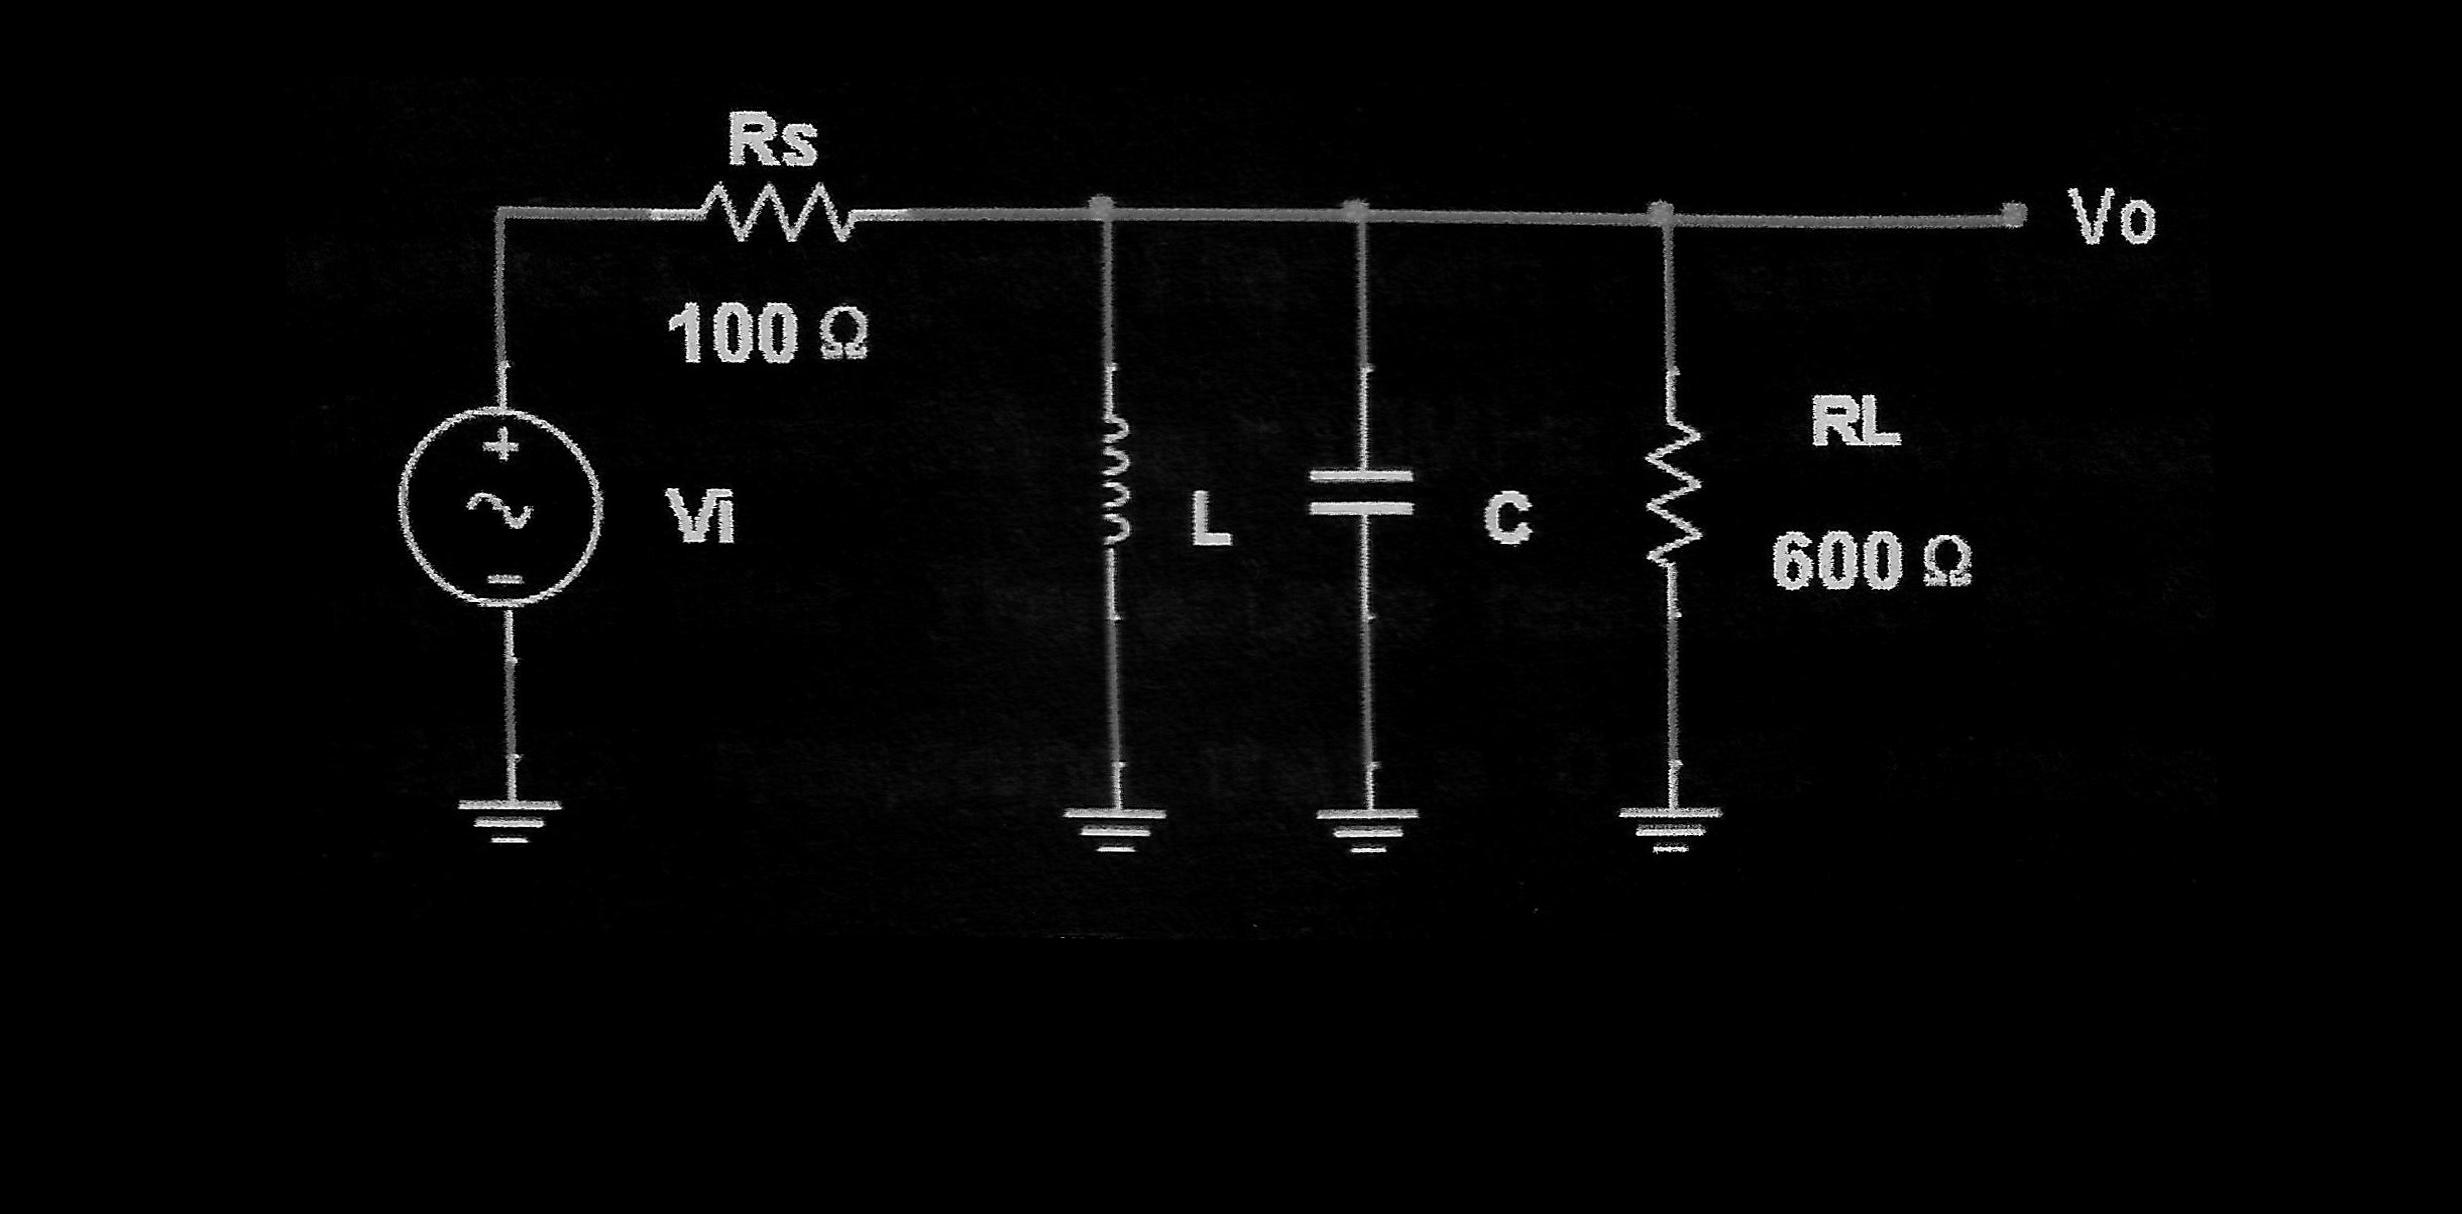Battery: (331, 357, 623, 660)
